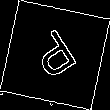P_SE: (26, 24, 84, 86)
